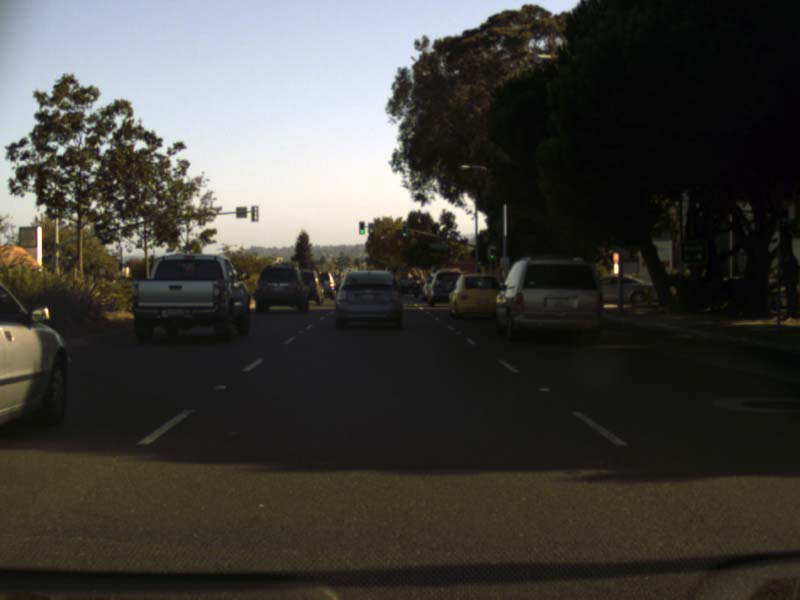Green: (487, 245, 496, 260), (358, 221, 364, 234), (401, 224, 407, 237)
